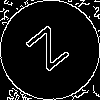Z: (25, 25, 78, 80)
